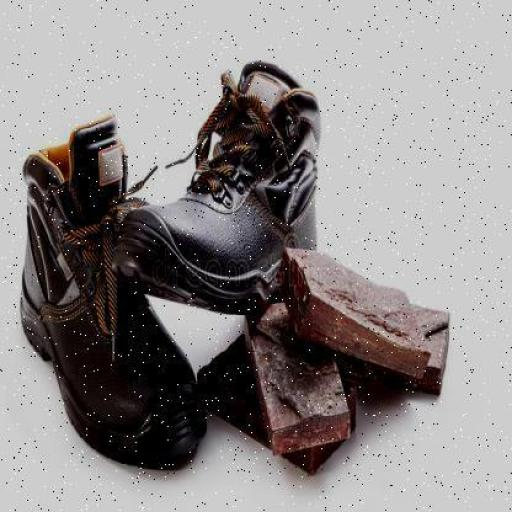safety_shoe: (13, 136, 197, 463), (130, 79, 318, 305)
